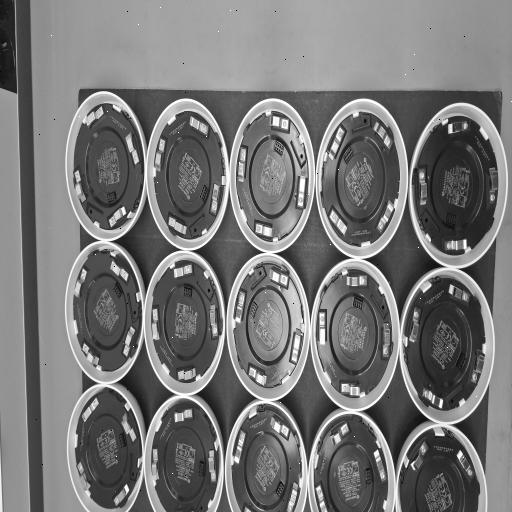konnektor: (443, 208, 460, 230), (456, 350, 468, 378), (350, 294, 366, 315), (362, 466, 374, 492), (273, 137, 285, 161), (198, 181, 209, 206), (249, 298, 259, 325), (274, 480, 286, 502), (111, 282, 124, 301), (196, 459, 206, 481), (105, 187, 117, 204), (343, 146, 354, 164), (182, 284, 194, 297), (118, 433, 125, 452)
yayli: (482, 158, 502, 212), (326, 201, 351, 240), (326, 123, 345, 172), (74, 457, 94, 502), (371, 117, 394, 156), (242, 358, 270, 390), (236, 137, 253, 189), (441, 231, 473, 258), (162, 208, 189, 239), (408, 440, 431, 476), (187, 111, 212, 144), (71, 168, 90, 211), (250, 215, 278, 243), (378, 318, 395, 364), (266, 412, 292, 442), (376, 195, 395, 236), (405, 304, 424, 344), (446, 282, 474, 309), (415, 164, 431, 211), (326, 417, 351, 447), (152, 134, 169, 178), (72, 261, 89, 305), (81, 102, 104, 134), (288, 326, 305, 369), (264, 108, 293, 133), (419, 390, 444, 418), (346, 265, 370, 294), (210, 176, 225, 222), (232, 426, 247, 472), (122, 410, 140, 448), (314, 308, 329, 353), (372, 448, 388, 490), (294, 168, 309, 212), (80, 338, 102, 368), (104, 203, 128, 230), (169, 406, 197, 429), (338, 378, 364, 402), (112, 476, 132, 507), (472, 343, 486, 387), (174, 360, 200, 383), (456, 449, 474, 482), (122, 319, 137, 358), (209, 298, 222, 342), (80, 396, 99, 426), (110, 256, 130, 284), (126, 130, 139, 172), (444, 115, 470, 136), (206, 445, 218, 488), (286, 476, 300, 512), (151, 307, 163, 346), (236, 287, 247, 327), (150, 445, 160, 489), (171, 264, 197, 280), (268, 267, 290, 284)
